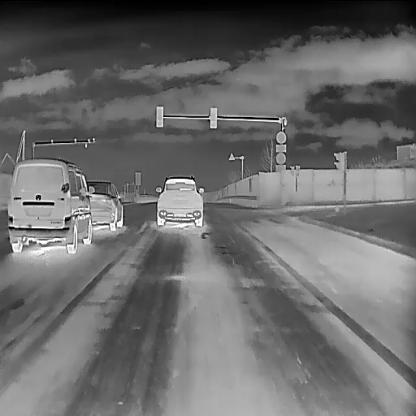car: (6, 155, 95, 254), (155, 174, 204, 227), (83, 178, 125, 231)
